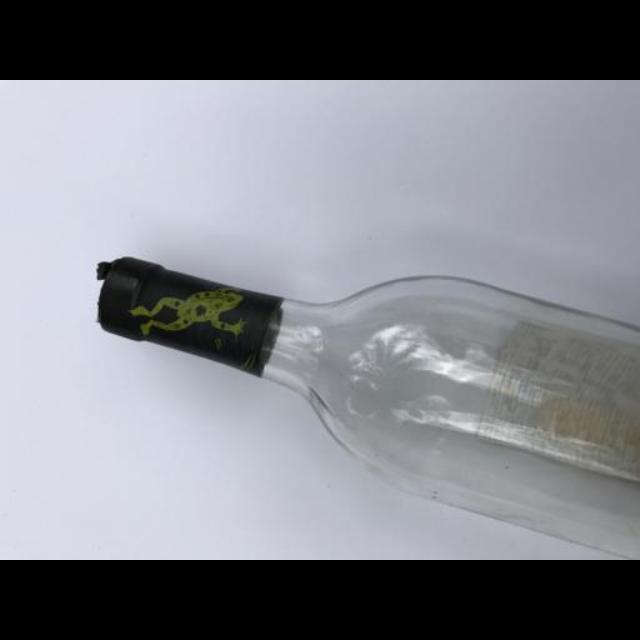garrafa de vidro: (96, 254, 640, 560)
